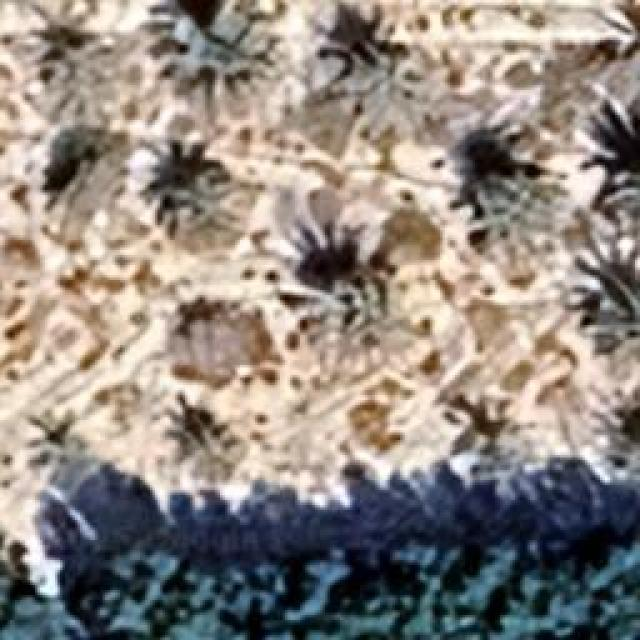PalmTree: (140, 138, 228, 242), (350, 50, 440, 140), (40, 32, 128, 120), (47, 135, 135, 223), (474, 160, 558, 250), (175, 402, 248, 488), (332, 266, 408, 346), (464, 400, 542, 472), (590, 270, 638, 382), (198, 15, 280, 70), (19, 415, 92, 475), (605, 117, 640, 238), (612, 405, 640, 473)
